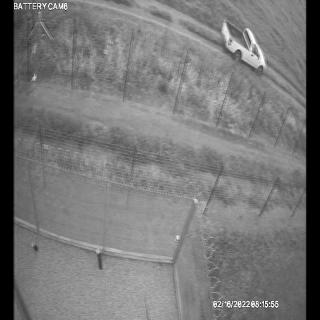car: (220, 19, 265, 74)
